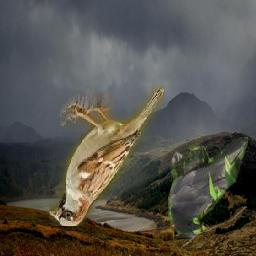Crow: (168, 138, 248, 235)
Sparrow: (50, 86, 165, 226)
